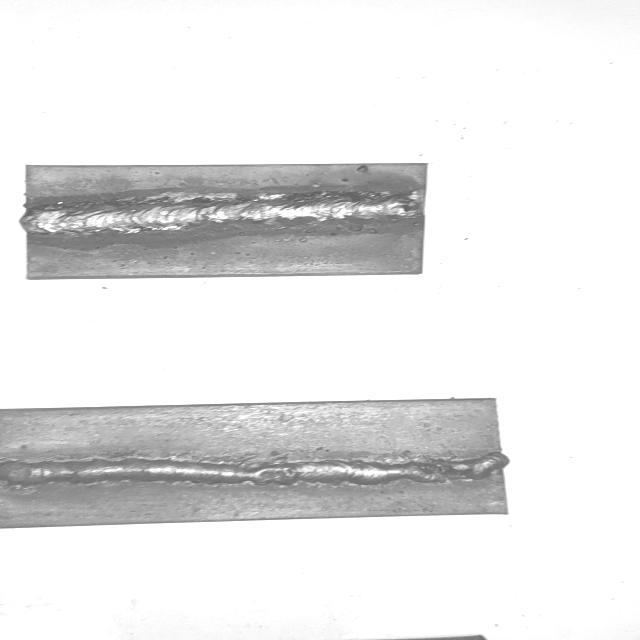Defect: (396, 445, 503, 491)
Welding Line: (29, 193, 422, 239), (0, 452, 501, 487)
Workpiece: (0, 392, 516, 531), (21, 154, 444, 286)
